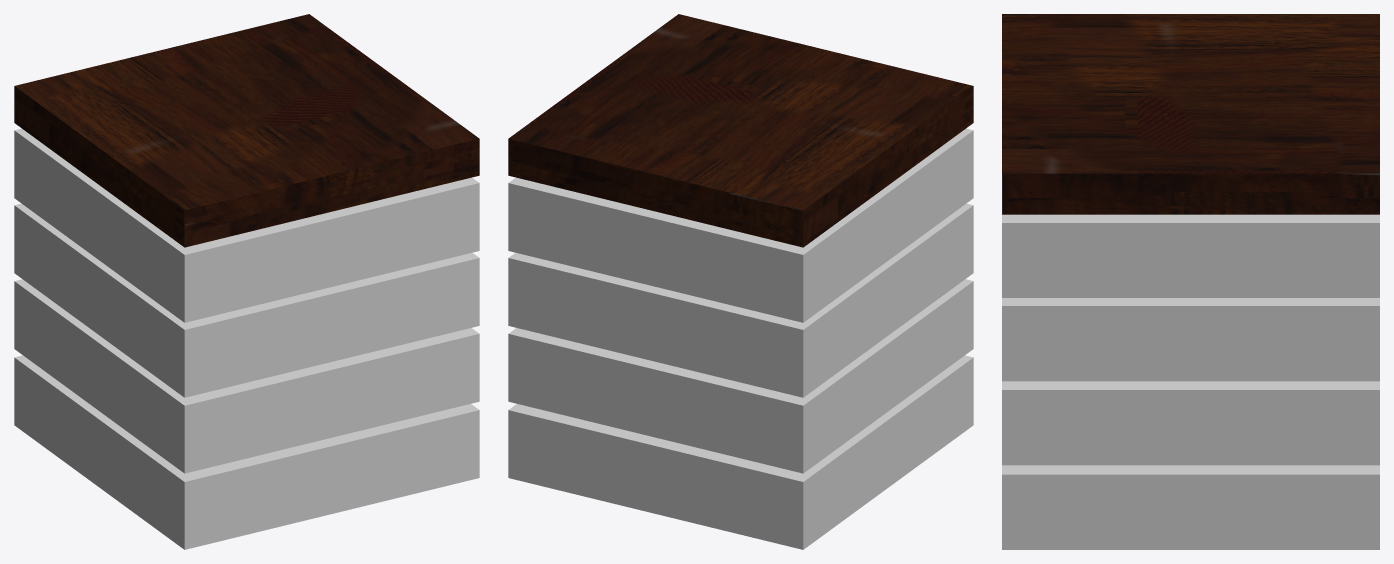
File: soil_layers.glb
3 renders of one model, left to right at view 1: azimuth 30°, elevation 25°; view 2: azimuth 150°, elevation 25°; view 3: azimuth 270°, elevation 25°, orthographic. The views are drawn at different scales.
Visible parts, largest first — view 1: Cube.004, Cube, Cube.001, Cube.003, Cube.002; view 2: Cube.004, Cube, Cube.001, Cube.003, Cube.002; view 3: Cube.004, Cube, Cube.001, Cube.002, Cube.003.
Boxes of the visible parts, x1,y1,x2,y2 form: Cube.004: [14, 14, 479, 247]; Cube: [14, 355, 479, 549]; Cube.001: [14, 279, 479, 473]; Cube.003: [14, 128, 479, 322]; Cube.002: [14, 203, 479, 397]; Cube.004: [508, 14, 973, 247]; Cube: [508, 355, 973, 549]; Cube.001: [508, 279, 973, 473]; Cube.003: [508, 128, 973, 322]; Cube.002: [508, 203, 973, 397]; Cube.004: [1002, 14, 1379, 214]; Cube: [1002, 465, 1379, 549]; Cube.001: [1002, 381, 1379, 465]; Cube.002: [1002, 298, 1379, 381]; Cube.003: [1002, 214, 1379, 297].
Size of the model in its own units: 1 by 1.1 by 1.
Materials: 2 (1 with a texture image).
